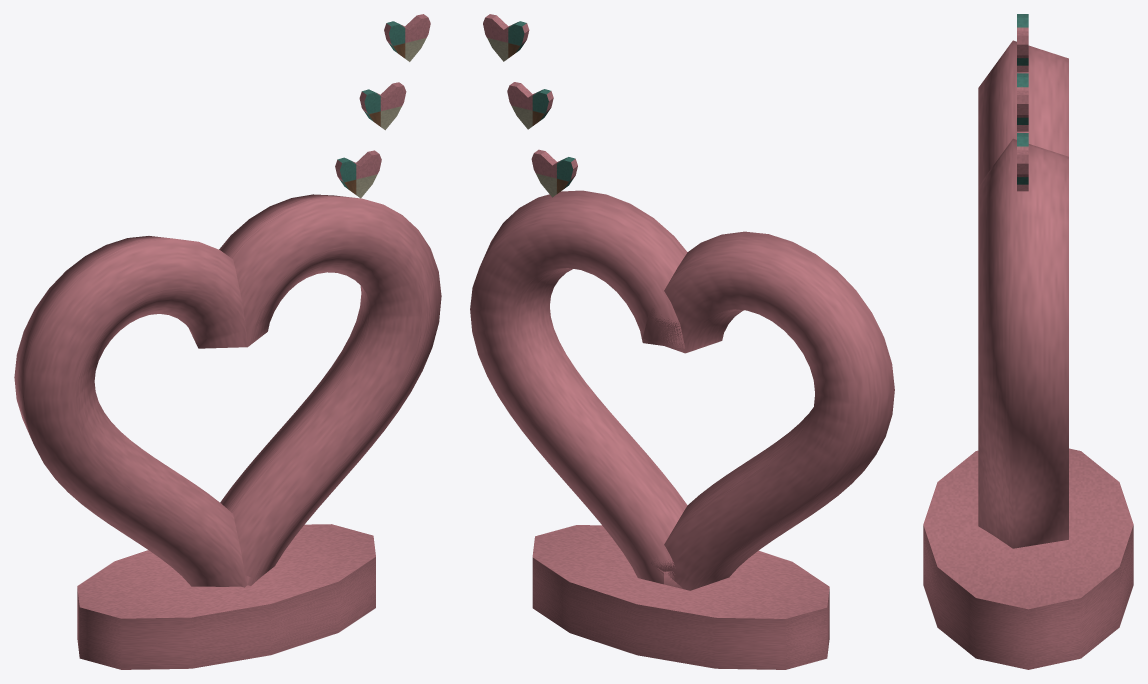
Rendered from heart_bubbler.glb.
3 renders of one model, left to right at view 1: azimuth 30°, elevation 25°; view 2: azimuth 150°, elevation 25°; view 3: azimuth 270°, elevation 25°, orthographic. The views are drawn at different scales.
Parts seen in each view (by area): view 1: static_ornament; view 2: static_ornament; view 3: static_ornament.
Part boxes in pixels (box(x1,y1,x2,y2)): static_ornament: box(14, 14, 441, 669); static_ornament: box(470, 14, 894, 669); static_ornament: box(923, 14, 1133, 669).
Bounding box in the file's own units: 1.19 × 1.53 × 0.44.
Materials: 1 (1 with a texture image).
